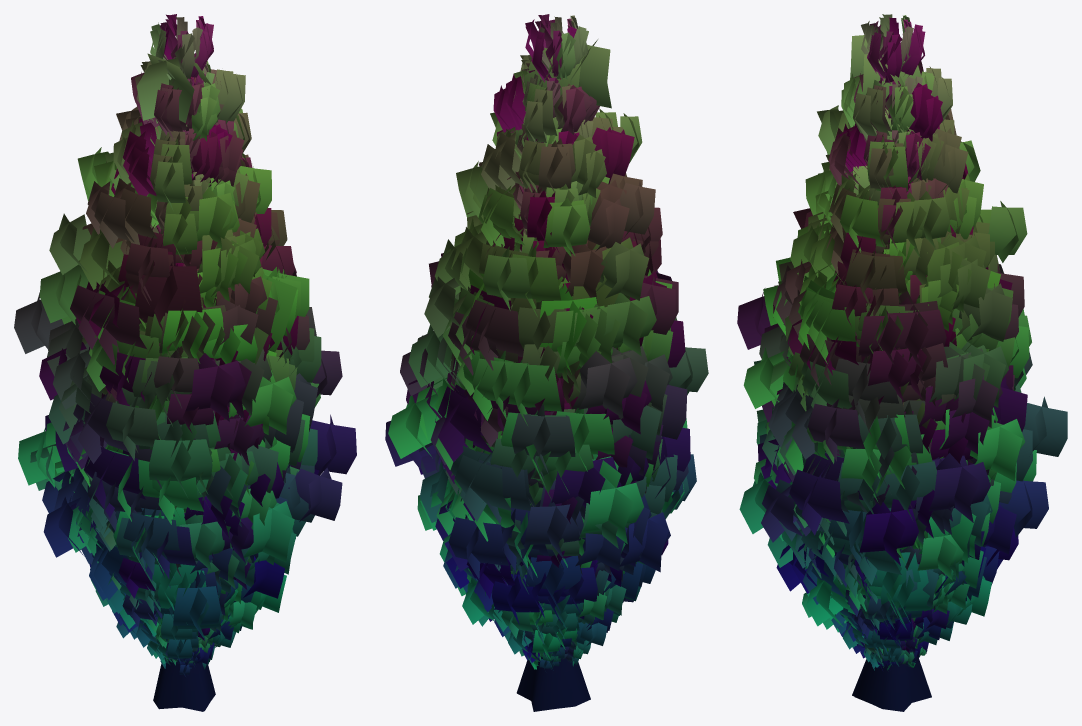
The model's file is trees_cypress.glb.
3 renders of one model, left to right at view 1: azimuth 30°, elevation 25°; view 2: azimuth 150°, elevation 25°; view 3: azimuth 270°, elevation 25°, orthographic.
Visible parts, largest first — view 1: cypress_ancient_04_LOD0, cypress_ancient_03_LOD0, cypress_ancient_02_LOD0, cypress_ancient_01_LOD0, cypress_mature_03_LOD0, cypress_mature_02_LOD0, cypress_mature_01_LOD0, cypress_mature_04_LOD0, cypress_young_04_LOD0; view 2: cypress_ancient_04_LOD0, cypress_ancient_03_LOD0, cypress_ancient_02_LOD0, cypress_ancient_01_LOD0, cypress_mature_02_LOD0, cypress_mature_03_LOD0, cypress_mature_04_LOD0, cypress_mature_01_LOD0, cypress_young_04_LOD0; view 3: cypress_ancient_04_LOD0, cypress_ancient_03_LOD0, cypress_ancient_02_LOD0, cypress_ancient_01_LOD0, cypress_mature_04_LOD0, cypress_mature_01_LOD0, cypress_mature_03_LOD0, cypress_mature_02_LOD0, cypress_young_03_LOD0.
Part boxes in pixels (x1,y1,x2,y2): cypress_ancient_04_LOD0: [14, 14, 356, 711]; cypress_ancient_03_LOD0: [39, 63, 342, 711]; cypress_ancient_02_LOD0: [30, 124, 342, 640]; cypress_ancient_01_LOD0: [83, 174, 299, 629]; cypress_mature_03_LOD0: [95, 522, 254, 647]; cypress_mature_02_LOD0: [91, 558, 258, 641]; cypress_mature_01_LOD0: [116, 595, 235, 663]; cypress_mature_04_LOD0: [89, 479, 247, 640]; cypress_young_04_LOD0: [147, 625, 214, 664]; cypress_ancient_04_LOD0: [385, 14, 696, 711]; cypress_ancient_03_LOD0: [400, 68, 708, 624]; cypress_ancient_02_LOD0: [435, 132, 665, 623]; cypress_ancient_01_LOD0: [417, 227, 662, 629]; cypress_mature_02_LOD0: [494, 564, 633, 659]; cypress_mature_03_LOD0: [495, 503, 668, 644]; cypress_mature_04_LOD0: [457, 484, 646, 642]; cypress_mature_01_LOD0: [489, 608, 607, 654]; cypress_young_04_LOD0: [522, 630, 590, 662]; cypress_ancient_04_LOD0: [737, 14, 1067, 711]; cypress_ancient_03_LOD0: [743, 76, 1036, 701]; cypress_ancient_02_LOD0: [754, 130, 1018, 626]; cypress_ancient_01_LOD0: [766, 375, 1014, 630]; cypress_mature_04_LOD0: [812, 540, 972, 636]; cypress_mature_01_LOD0: [843, 604, 953, 654]; cypress_mature_03_LOD0: [823, 569, 953, 646]; cypress_mature_02_LOD0: [802, 548, 949, 648]; cypress_young_03_LOD0: [862, 618, 918, 667].
Size of what is drawn, in the model's own units: 10.13 by 24.62 by 10.98.
